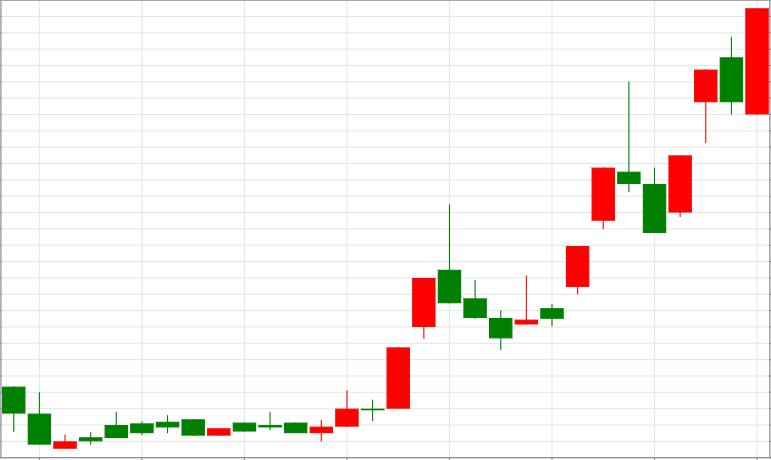hanging_man_fall: (489, 69, 718, 351)
shooting_star_fall: (309, 204, 461, 442)
